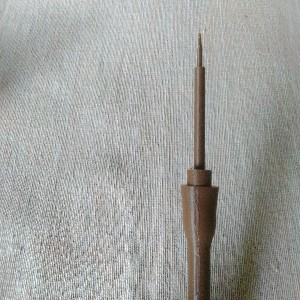solder: (179, 30, 220, 300)
